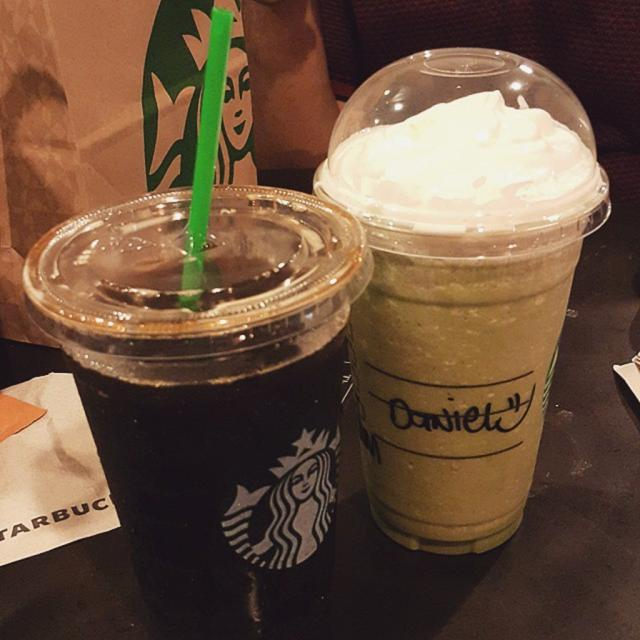Coffee: (63, 254, 349, 639)
